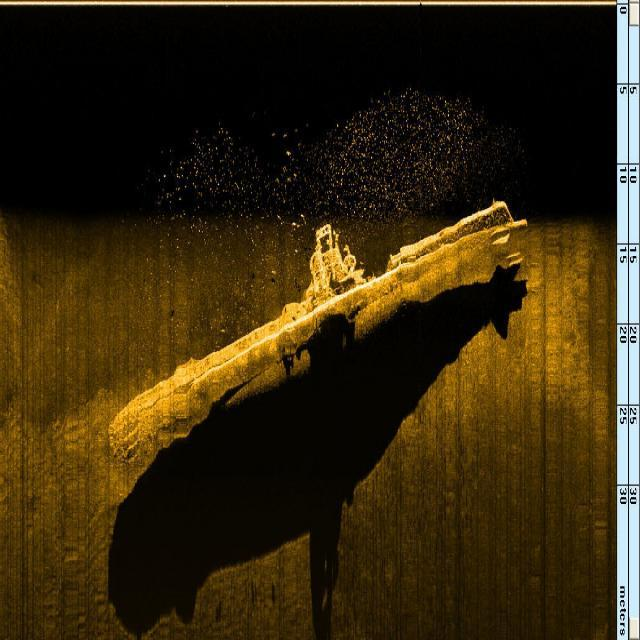shipwreck: (108, 198, 530, 455)
